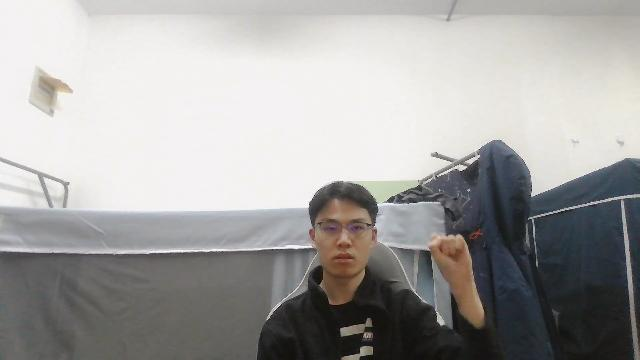ten: (425, 230, 475, 297)
